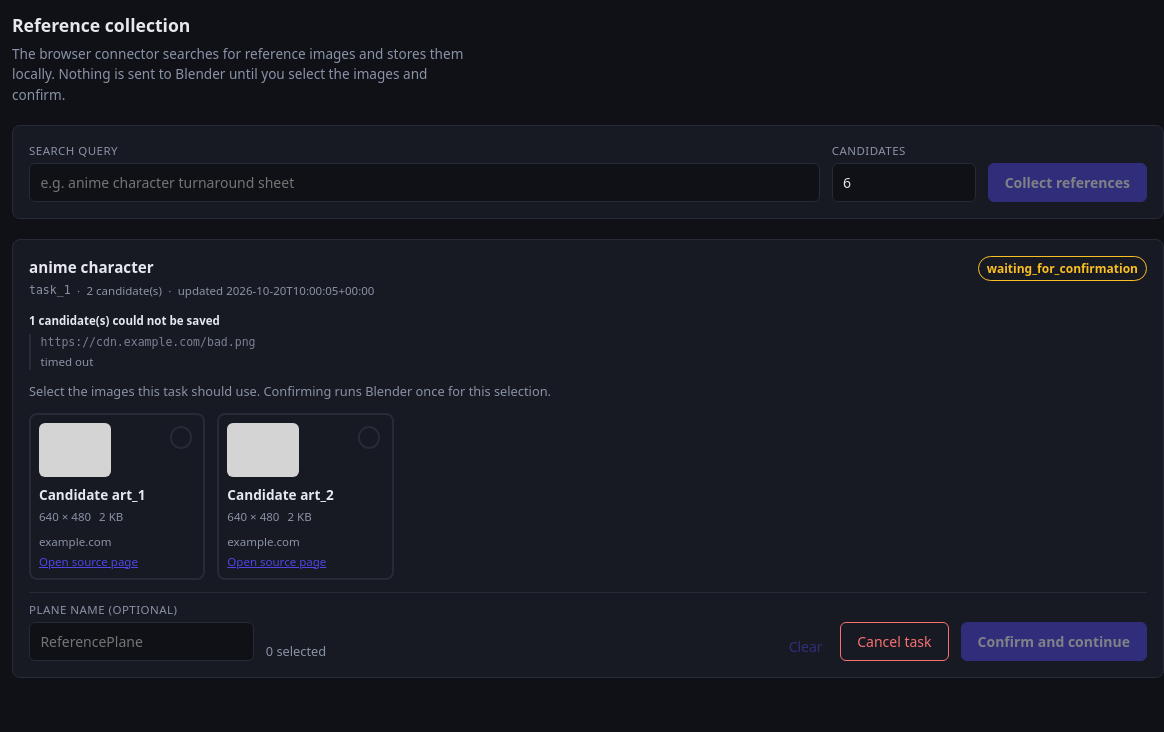
Test: ReferencesView › keeps the confirmed candidates visible and marked after a success
Click the checkbox with test id "card-art_1" at (117, 496), box [29,413,205,580]
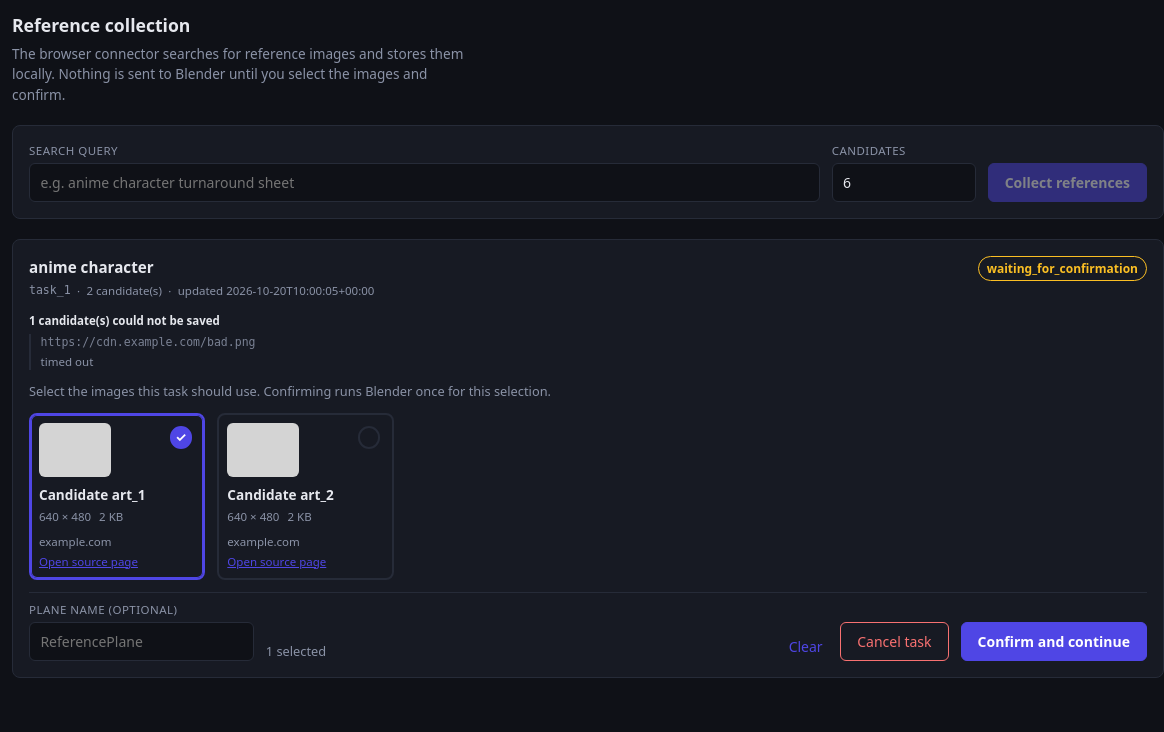
Click the button with test id "confirm" at (1054, 642), box [960,622,1147,661]
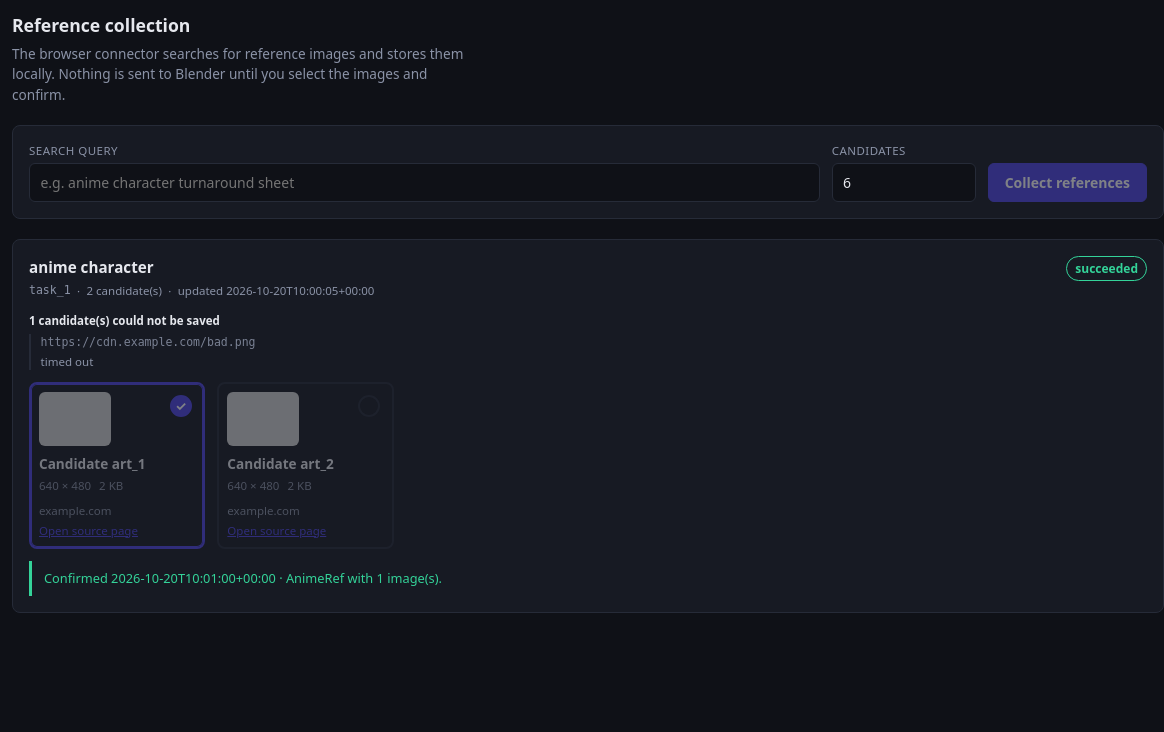
Expected: the number of checkboxes is 2, [29,382,205,549]; [217,382,394,549]
Result: the checkbox with test id "card-art_1" is disabled at [29,382,205,549]
